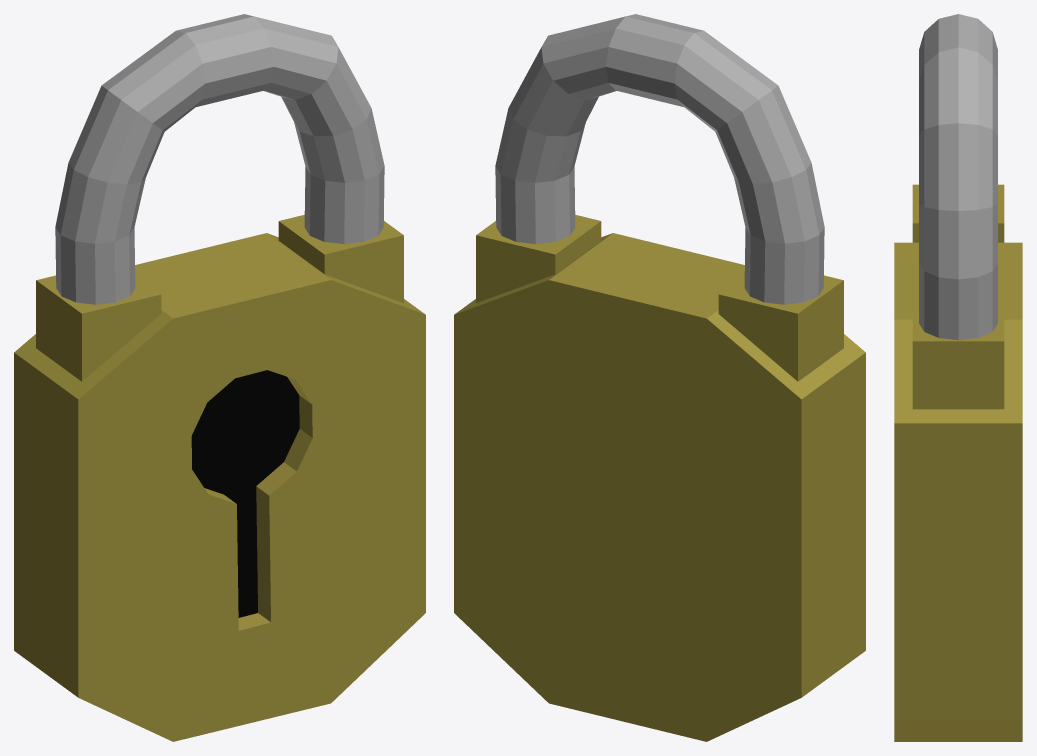
The model's file is keylock.fbx.
3 renders of one model, left to right at view 1: azimuth 30°, elevation 25°; view 2: azimuth 150°, elevation 25°; view 3: azimuth 270°, elevation 25°, orthographic.
Visible parts, largest first — view 1: Cube; view 2: Cube; view 3: Cube.
Boxes of the visible parts, x1,y1,x2,y2 form: Cube: (14,14,425,741); Cube: (454,14,865,741); Cube: (894,14,1022,741).
Bounding box in the file's own units: 200 × 371 × 64.13.
